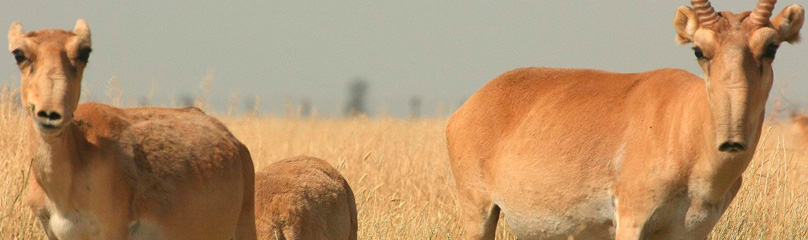saiga: (430, 4, 808, 240), (4, 24, 299, 240)
